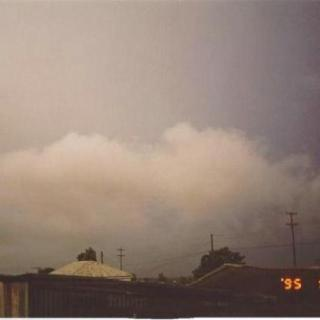Stratus: (0, 113, 320, 249)
